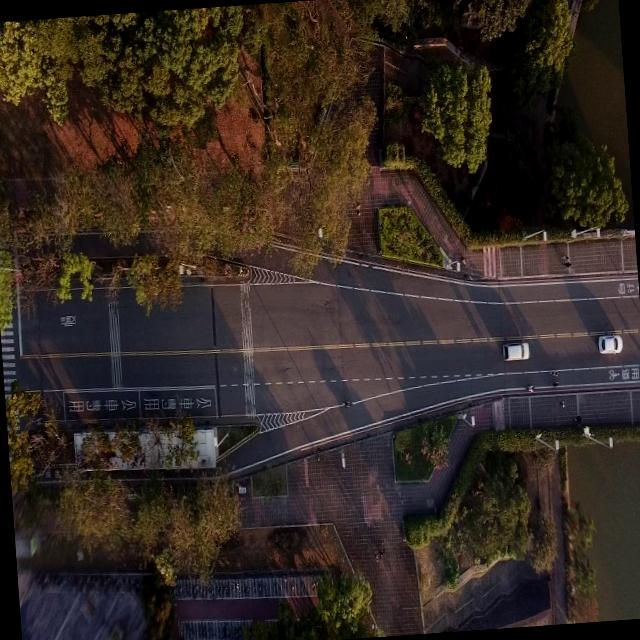bike: (523, 382, 537, 396)
car: (502, 339, 530, 362), (596, 332, 623, 355)
